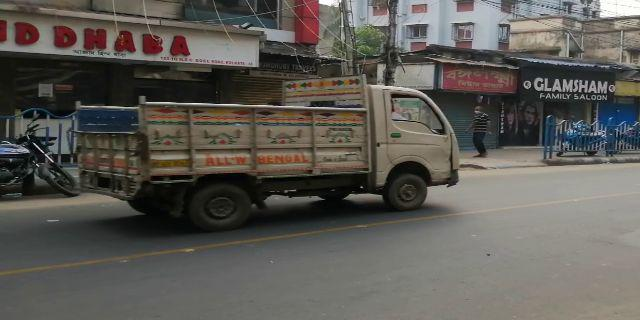Minitruck: (68, 79, 463, 231)
